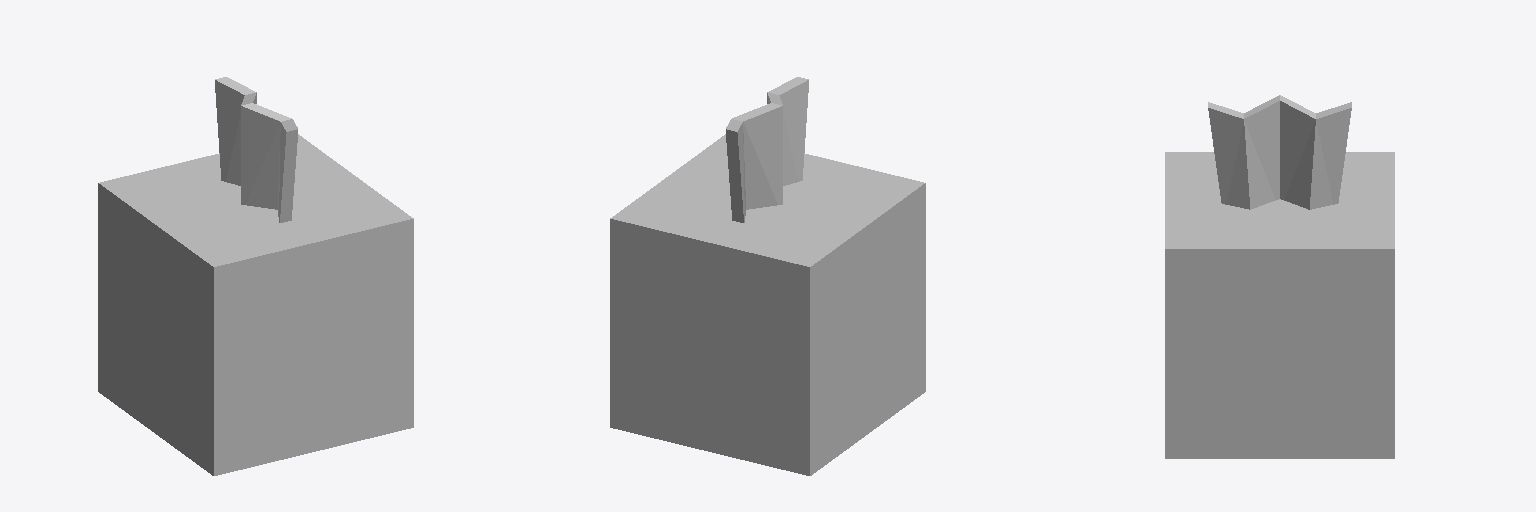
File: kleenex_1.obj
3 renders of one model, left to right at view 1: azimuth 30°, elevation 25°; view 2: azimuth 150°, elevation 25°; view 3: azimuth 270°, elevation 25°, orthographic.
Visible parts, largest first — view 1: kleenex_1_Cube.008; view 2: kleenex_1_Cube.008; view 3: kleenex_1_Cube.008.
Boxes of the visible parts, x1,y1,x2,y2 form: kleenex_1_Cube.008: [98, 77, 413, 475]; kleenex_1_Cube.008: [610, 77, 925, 475]; kleenex_1_Cube.008: [1165, 95, 1394, 458].
Bounding box in the file's own units: 1.03 × 1.51 × 1.03.